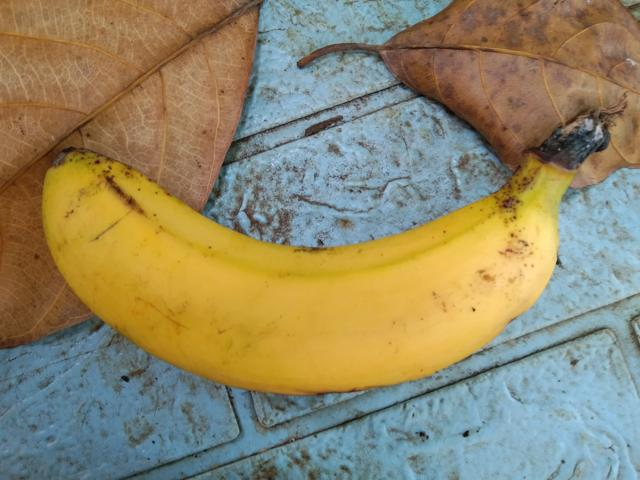freshripe: (24, 136, 567, 450)
